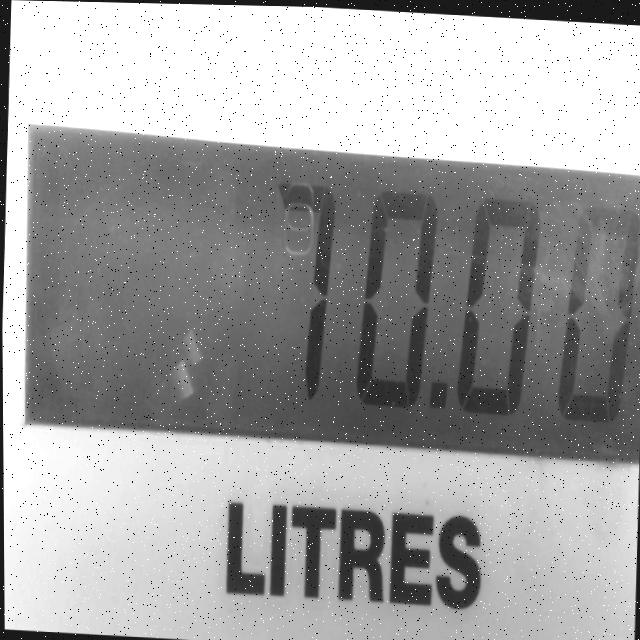.: (414, 369, 457, 426)
0: (548, 170, 640, 458), (347, 164, 437, 411), (447, 179, 536, 418)
7: (256, 173, 347, 440)
